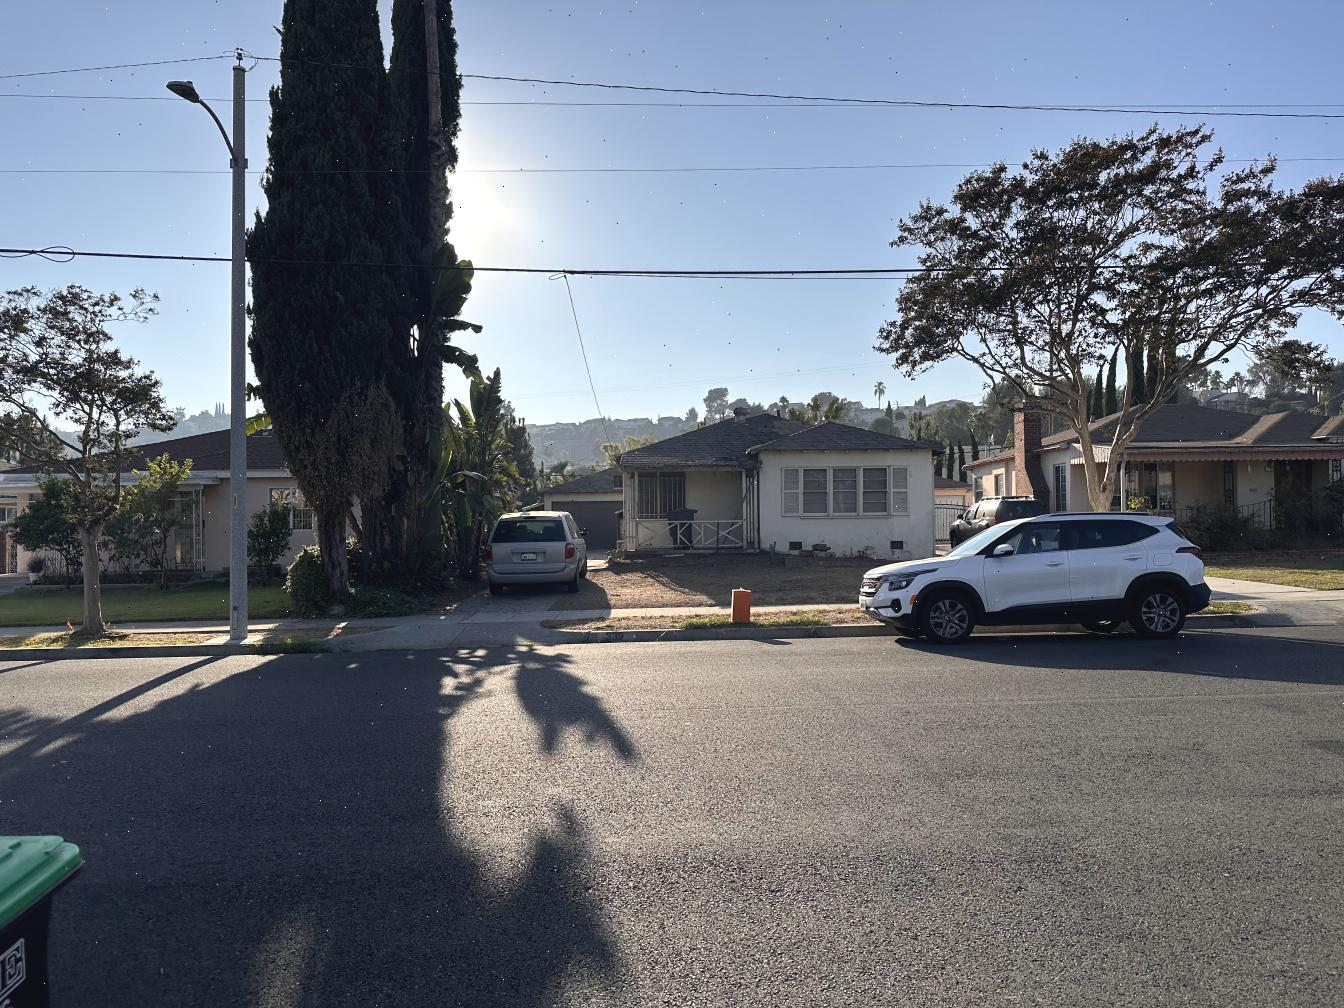curbs-laRr: (0, 642, 271, 662), (567, 628, 743, 642), (746, 623, 882, 639)
orange box: (732, 589, 751, 624)
